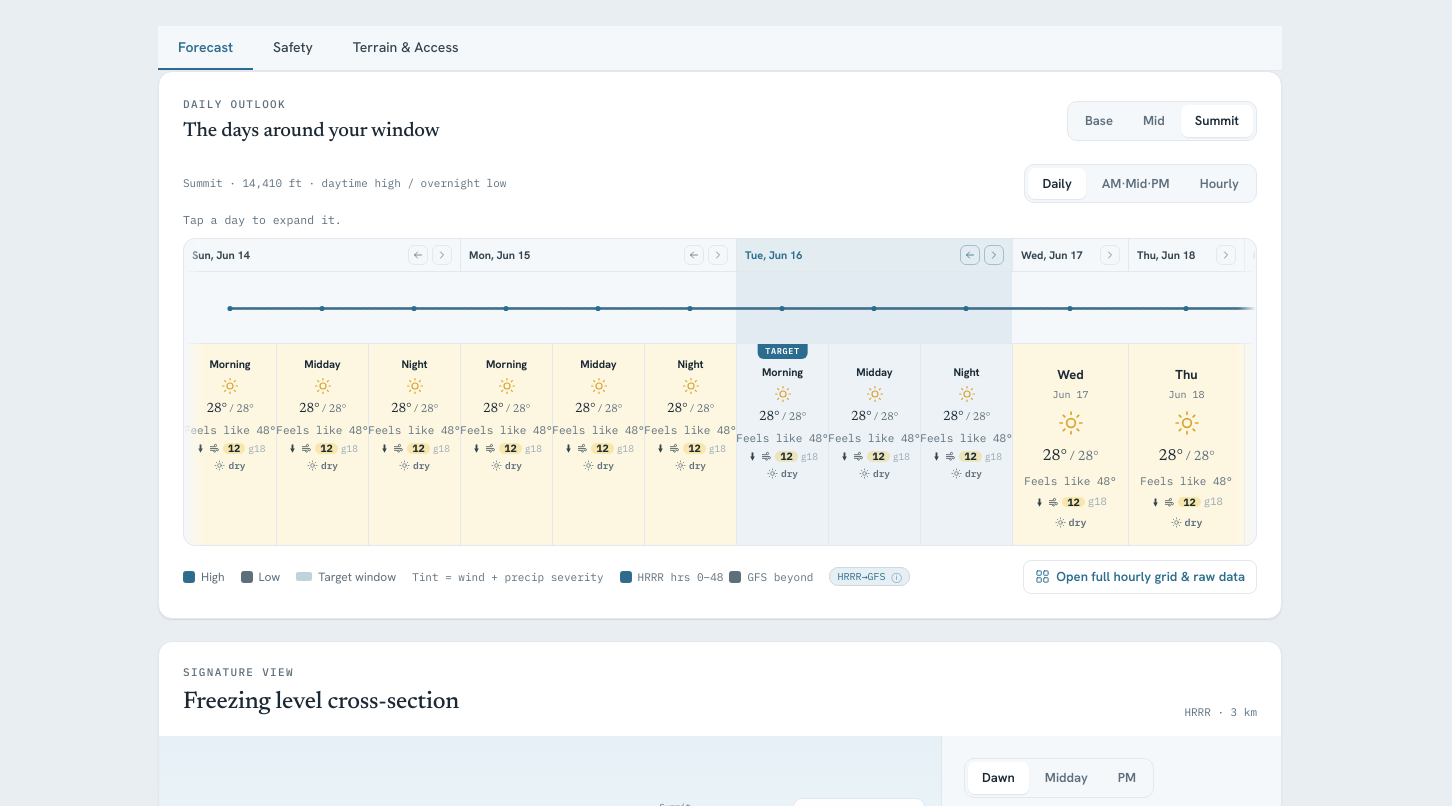
Test: MountainDetail — target in range › renders the Avalanche panel only after switching to the Safety tab
Expected: the heading "avalanche danger" is not shown
Click the tab "Safety" at (293, 48), box [253,26,333,70]
(page scrolled)
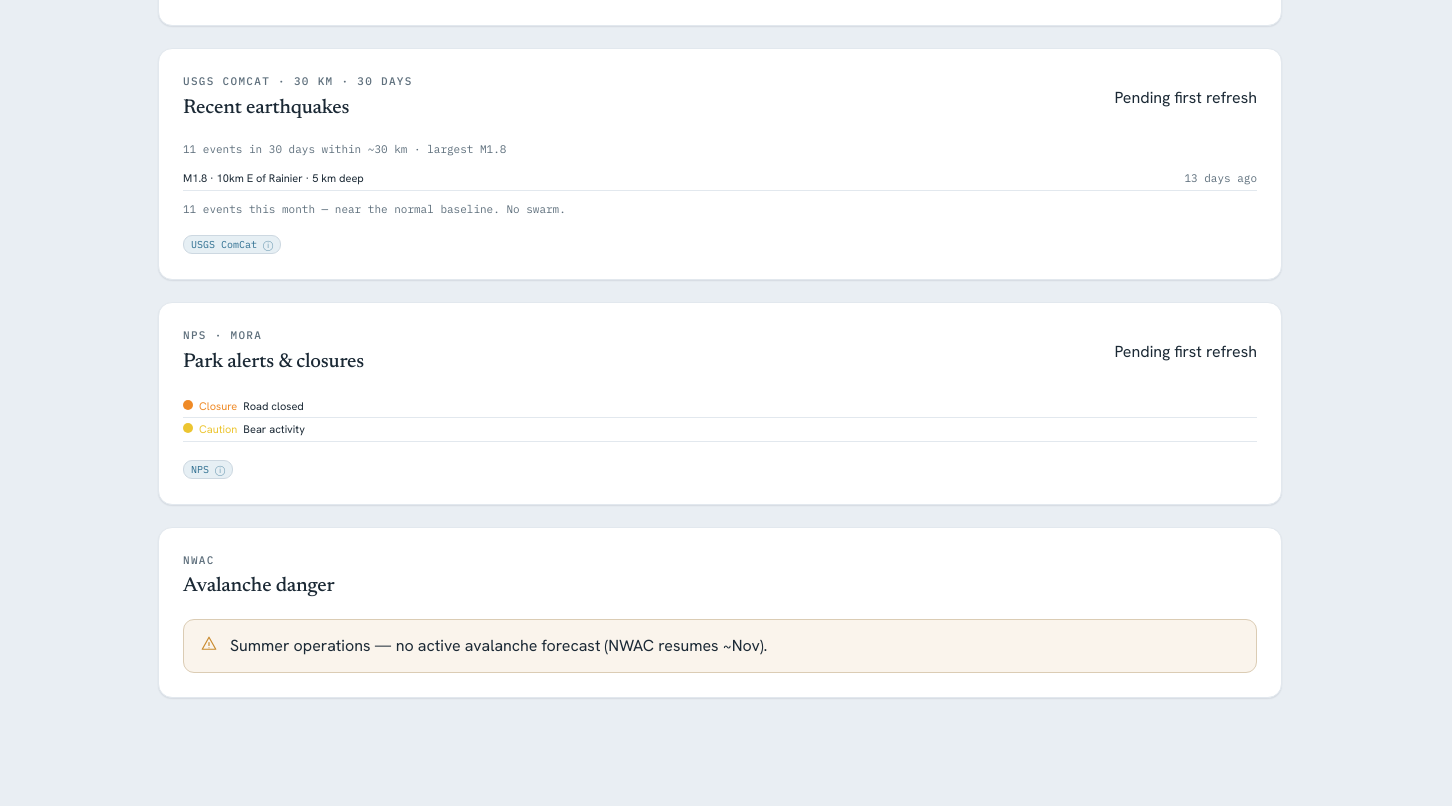
Now the heading "Avalanche danger" is shown, box [183,572,334,602]
